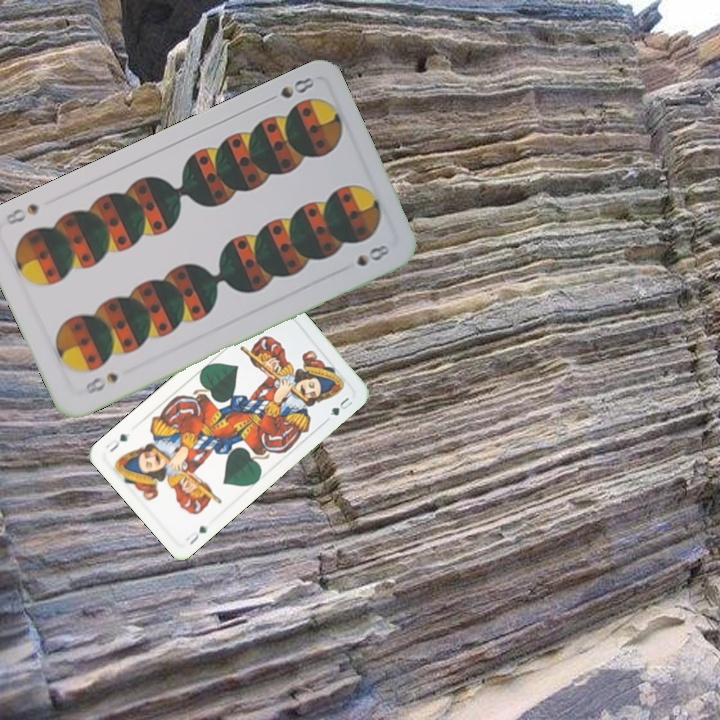GU: (182, 521, 212, 548)
S8: (260, 73, 317, 106), (81, 368, 121, 397)
